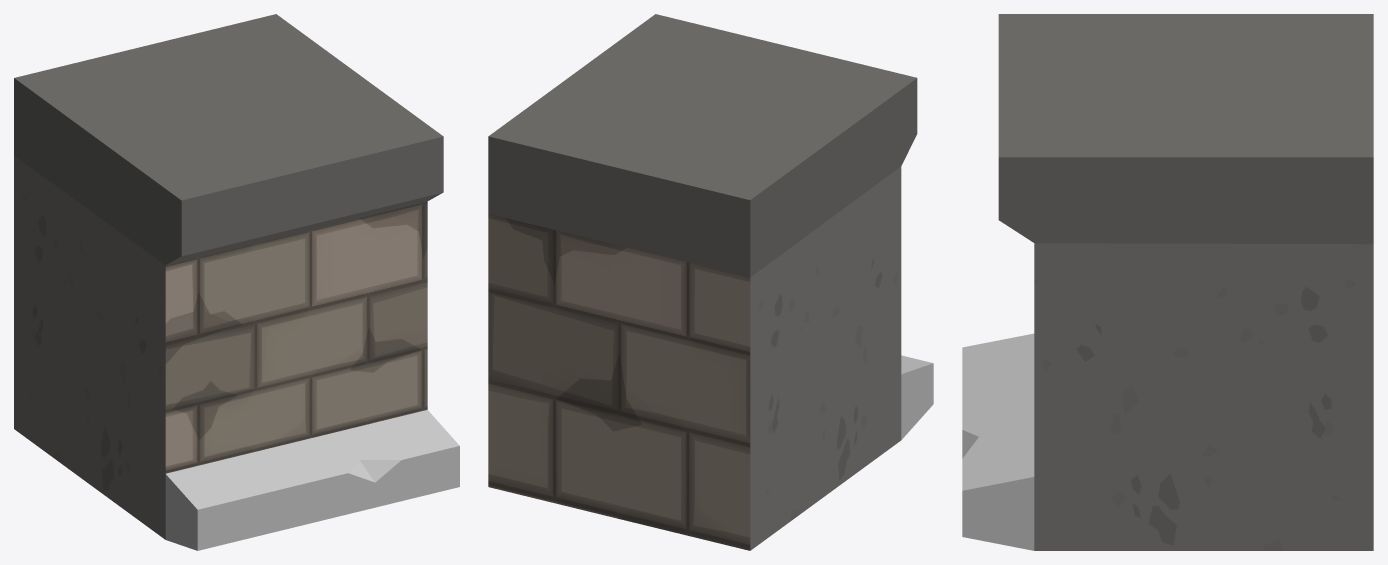
Rendered from SM_Bld_Tunnel_Curved_Cap_02.fbx.
3 views of the same model, side by side, from view 1: azimuth 30°, elevation 25°; view 2: azimuth 150°, elevation 25°; view 3: azimuth 270°, elevation 25° (orthographic). The views are drawn at different scales.
Visible parts, largest first — view 1: SM_Bld_Tunnel_Curved_Cap_02; view 2: SM_Bld_Tunnel_Curved_Cap_02; view 3: SM_Bld_Tunnel_Curved_Cap_02.
Part boxes in pixels (x1,y1,x2,y2): SM_Bld_Tunnel_Curved_Cap_02: (14,14,459,550); SM_Bld_Tunnel_Curved_Cap_02: (488,14,933,550); SM_Bld_Tunnel_Curved_Cap_02: (962,14,1373,550).
Size of the model in its own units: 125 by 160 by 152.
